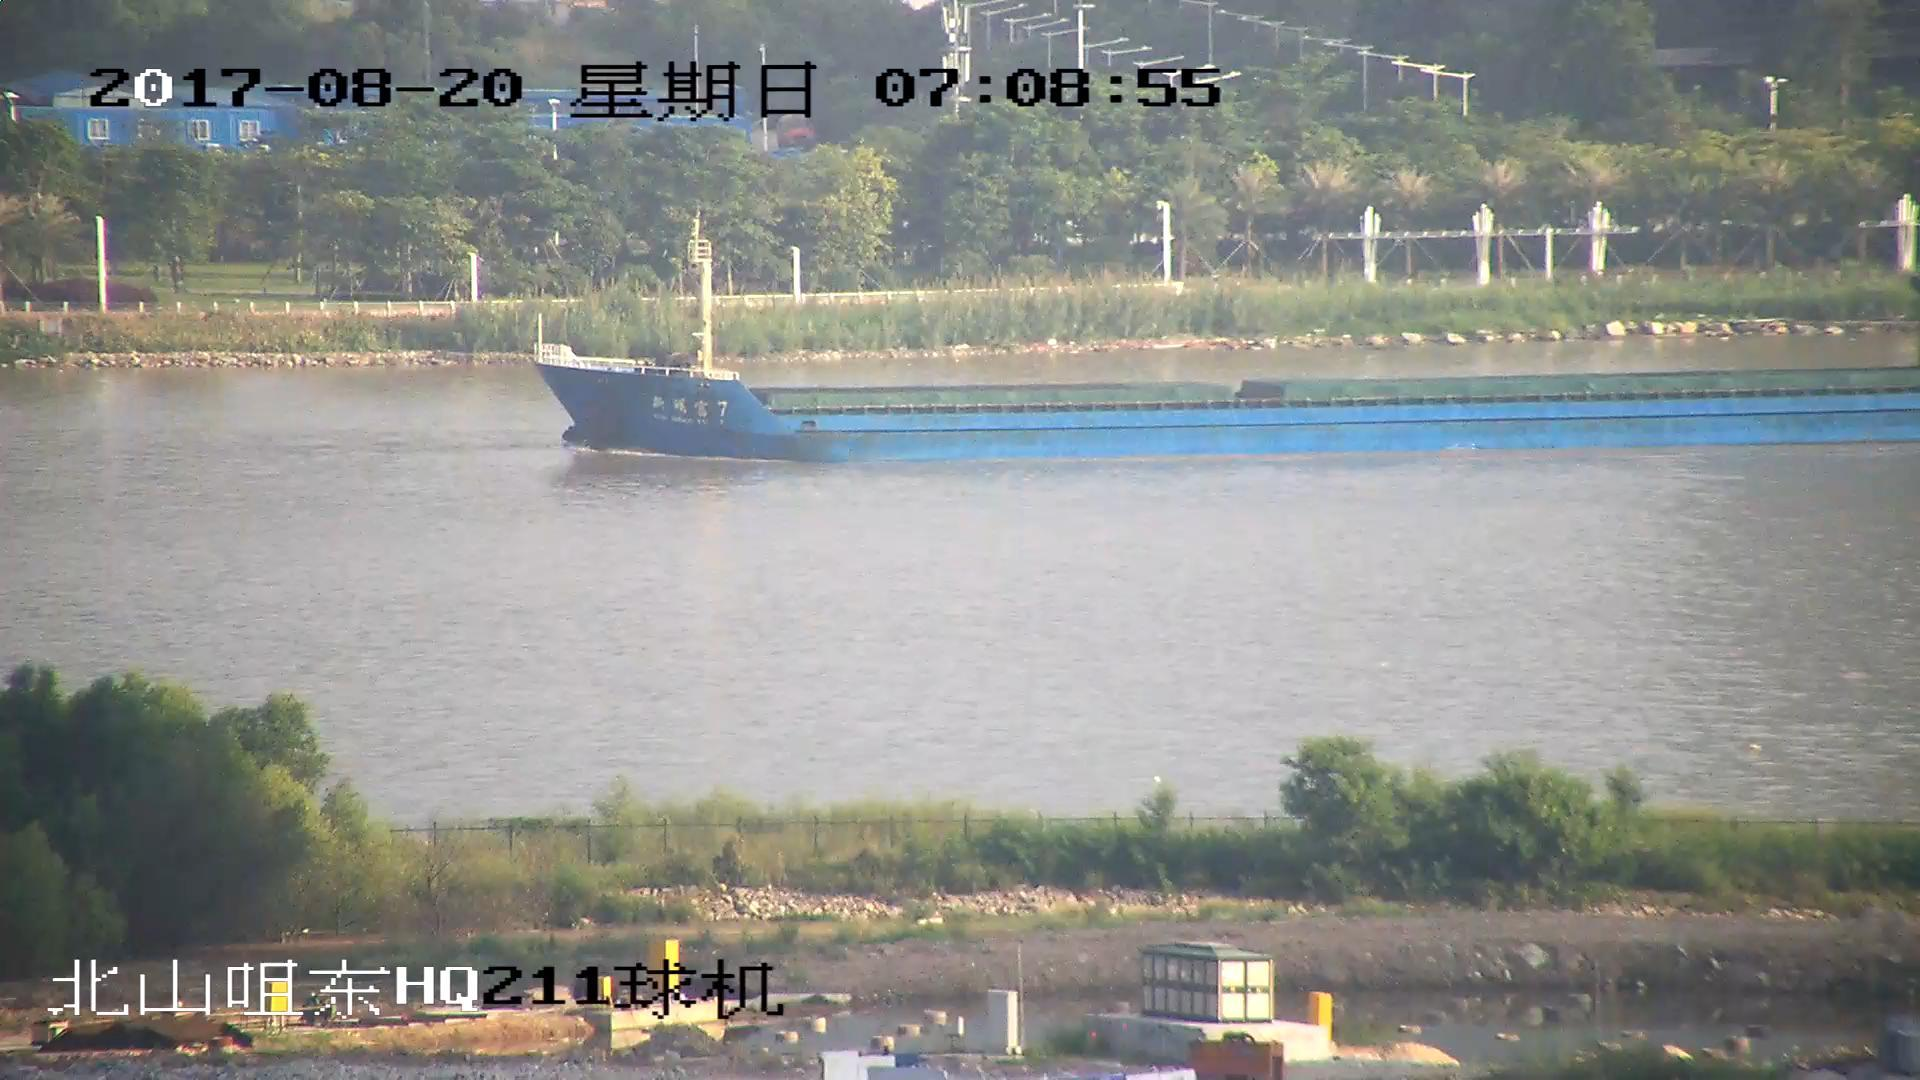Ship: (527, 241, 1920, 465)
